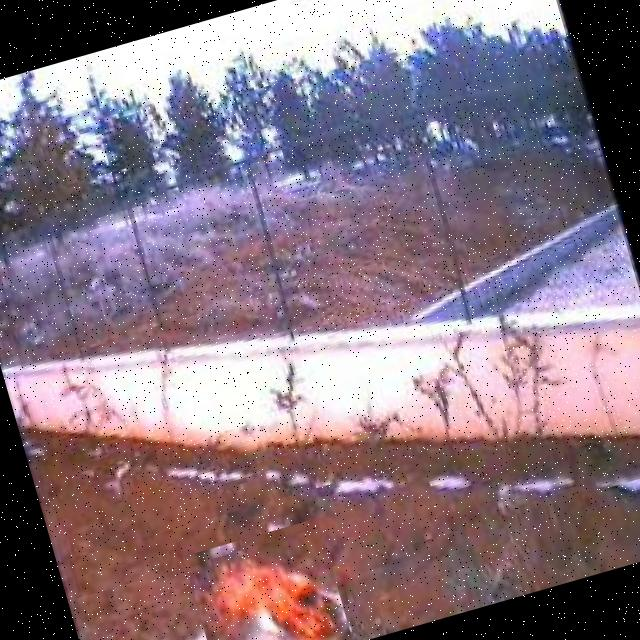fire: (182, 517, 353, 640)
